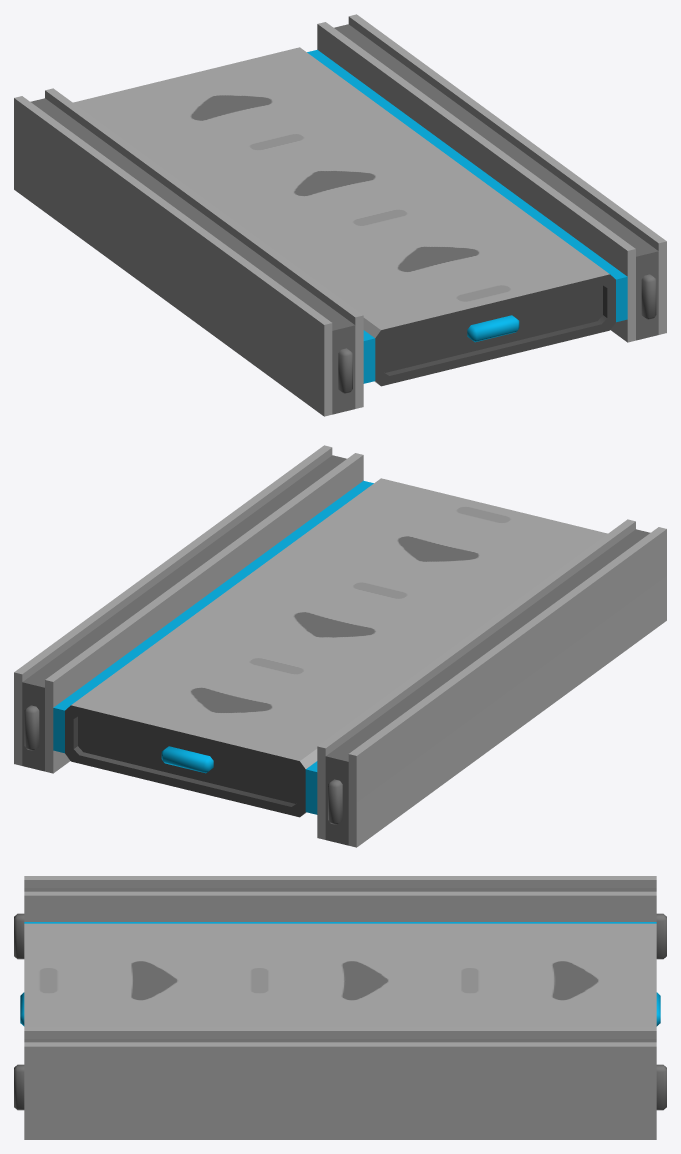
The model's file is Conveyor_Belt_2nd_S01A.fbx.
The picture shows the model from 3 angles, top to bottom: view 1: azimuth 30°, elevation 25°; view 2: azimuth 150°, elevation 25°; view 3: azimuth 270°, elevation 25°; orthographic projection.
Visible parts, largest first — view 1: Conveyor_Belt_2nd_S01A; view 2: Conveyor_Belt_2nd_S01A; view 3: Conveyor_Belt_2nd_S01A.
Boxes of the visible parts, x1,y1,x2,y2 form: Conveyor_Belt_2nd_S01A: (14, 14, 666, 416); Conveyor_Belt_2nd_S01A: (14, 445, 666, 847); Conveyor_Belt_2nd_S01A: (14, 876, 666, 1139).
Bounding box in the file's own units: 128 × 32.6 × 207.
